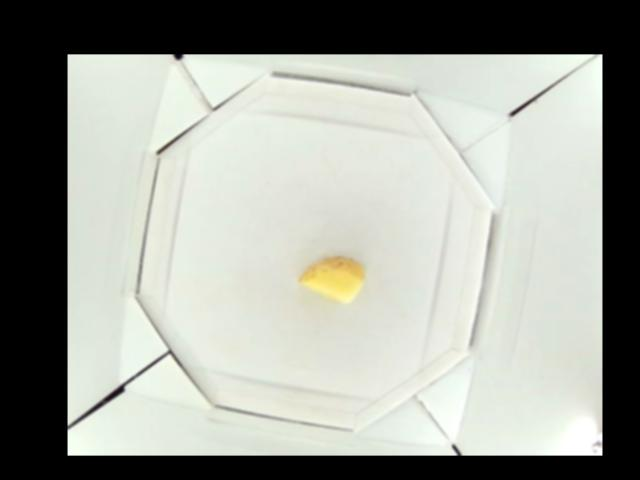Potato: (298, 257, 365, 300)
